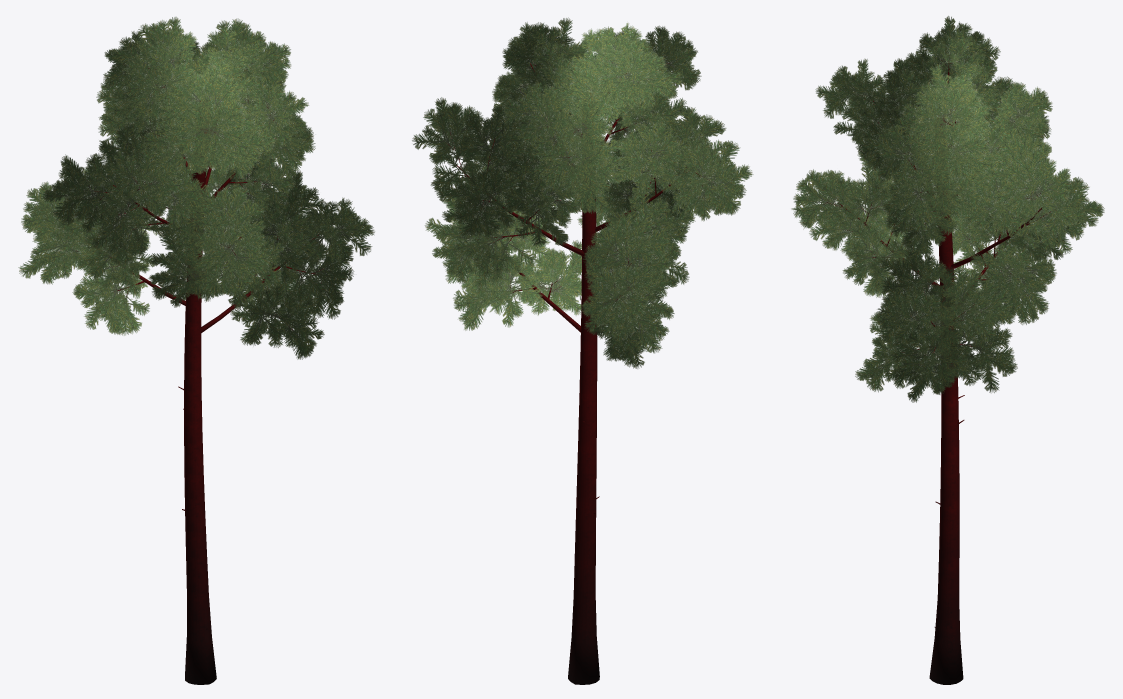
File: pine_open_v01.glb
3 views of the same model, side by side, from view 1: azimuth 30°, elevation 25°; view 2: azimuth 150°, elevation 25°; view 3: azimuth 270°, elevation 25° (orthographic). The views are drawn at different scales.
Parts seen in each view (by area): view 1: pine_open_v01; view 2: pine_open_v01; view 3: pine_open_v01.
Part boxes in pixels (x1=…): pine_open_v01: x1=18, y1=17, x2=374, y2=684; pine_open_v01: x1=412, y1=17, x2=753, y2=684; pine_open_v01: x1=791, y1=16, x2=1104, y2=684.
Bounding box in the file's own units: 8.97 × 18.48 × 8.39.
2 materials, 2 textured.
